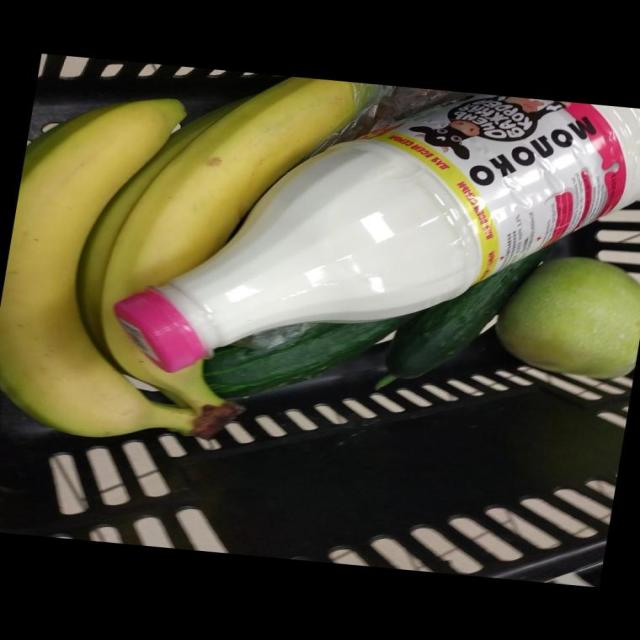Apple: (497, 256, 640, 378)
Banana: (100, 76, 355, 411), (0, 98, 212, 437), (77, 97, 248, 351)
Cucumber: (386, 247, 550, 378), (204, 316, 410, 397)
Milk: (117, 93, 640, 370)
